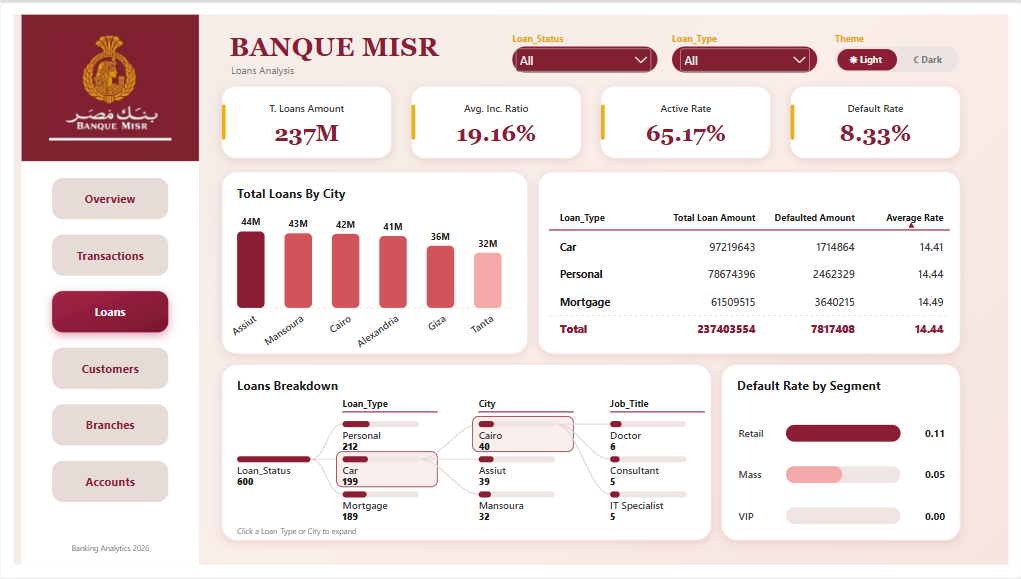

This screenshot's page, from the dashboard's own definition file:
{"tool":"powerbi","page":{"name":"Loans HTML","canvas":[1280,720],"ordinal":3},"visuals":[{"type":"htmlContent443BE3AD55E043BF878BED274D3A6855","fields":{"content":["DAX.HTML Loans"]},"box":[0,0,1279.6,720.4],"z":0},{"type":"slicer","fields":{"Values":["Fact Loans.Loan_Status"]},"box":[640.7,51.9,179.6,38.9],"z":1000},{"type":"slicer","fields":{"Values":["Fact Loans.Loan_Type"]},"box":[846.3,51.9,172.2,38.9],"z":2000},{"type":"actionButton","box":[64.8,288.9,150,53.7],"z":3000},{"type":"actionButton","box":[64.8,427.8,150,53.7],"z":4000},{"type":"actionButton","box":[64.8,503.7,150,53.7],"z":5000},{"type":"actionButton","box":[64.8,575.9,150,53.7],"z":6000},{"type":"actionButton","box":[66.7,218.5,150,53.7],"z":7000},{"type":"actionButton","box":[25.9,14.8,229.4,178.4],"z":8000}]}

Visuals, with their boxes in screenshot pixels (x1, y1, x2, y2), scaled from the page's 1280x720 canvas onto the 1021x579 screenshot:
htmlContent443BE3AD55E043BF878BED274D3A6855 - DAX.HTML Loans: (x1=0, y1=0, x2=1020, y2=578)
slicer - Fact Loans.Loan_Status: (x1=511, y1=42, x2=654, y2=73)
slicer - Fact Loans.Loan_Type: (x1=675, y1=42, x2=812, y2=73)
actionButton: (x1=52, y1=232, x2=171, y2=276)
actionButton: (x1=52, y1=344, x2=171, y2=387)
actionButton: (x1=52, y1=405, x2=171, y2=448)
actionButton: (x1=52, y1=463, x2=171, y2=506)
actionButton: (x1=53, y1=176, x2=173, y2=219)
actionButton: (x1=21, y1=12, x2=204, y2=155)
